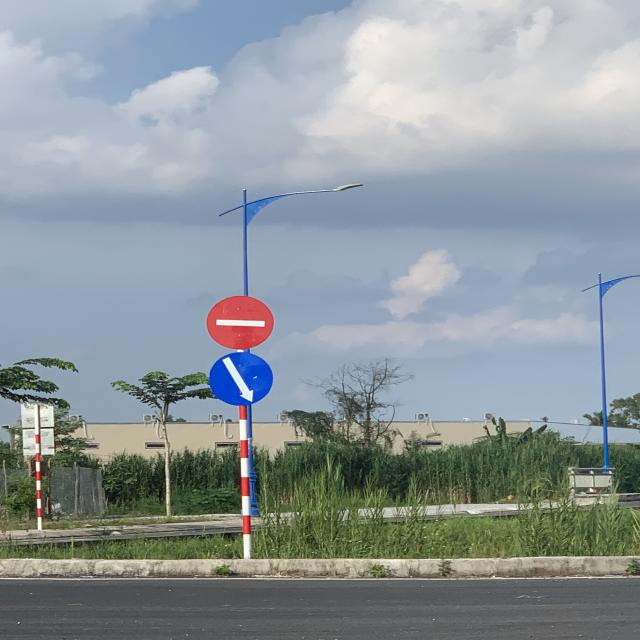Cam_Di_Nguoc_Chieu: (207, 296, 275, 350)
Chi_Huong_Di_Phai: (209, 352, 275, 406)
